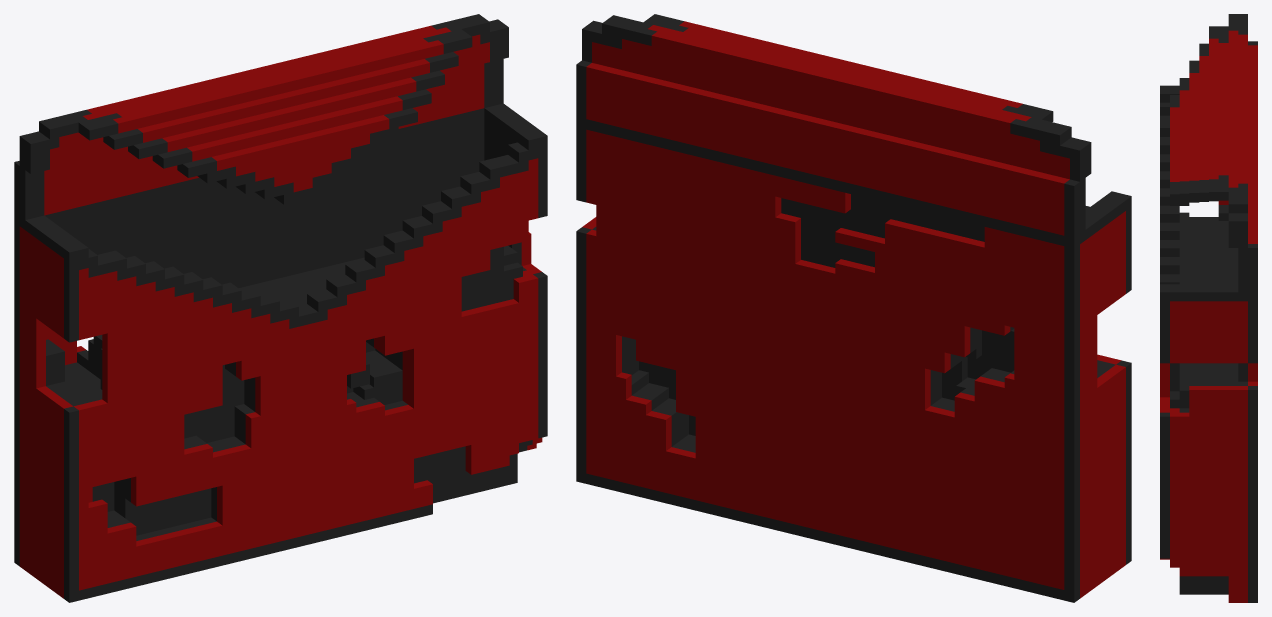
File: Melissa-1.obj
3 views of the same model, side by side, from view 1: azimuth 30°, elevation 25°; view 2: azimuth 150°, elevation 25°; view 3: azimuth 270°, elevation 25° (orthographic). The views are drawn at different scales.
Bounding box in the file's own units: 5 × 4.4 × 1.
Materials: 1 (1 with a texture image).
